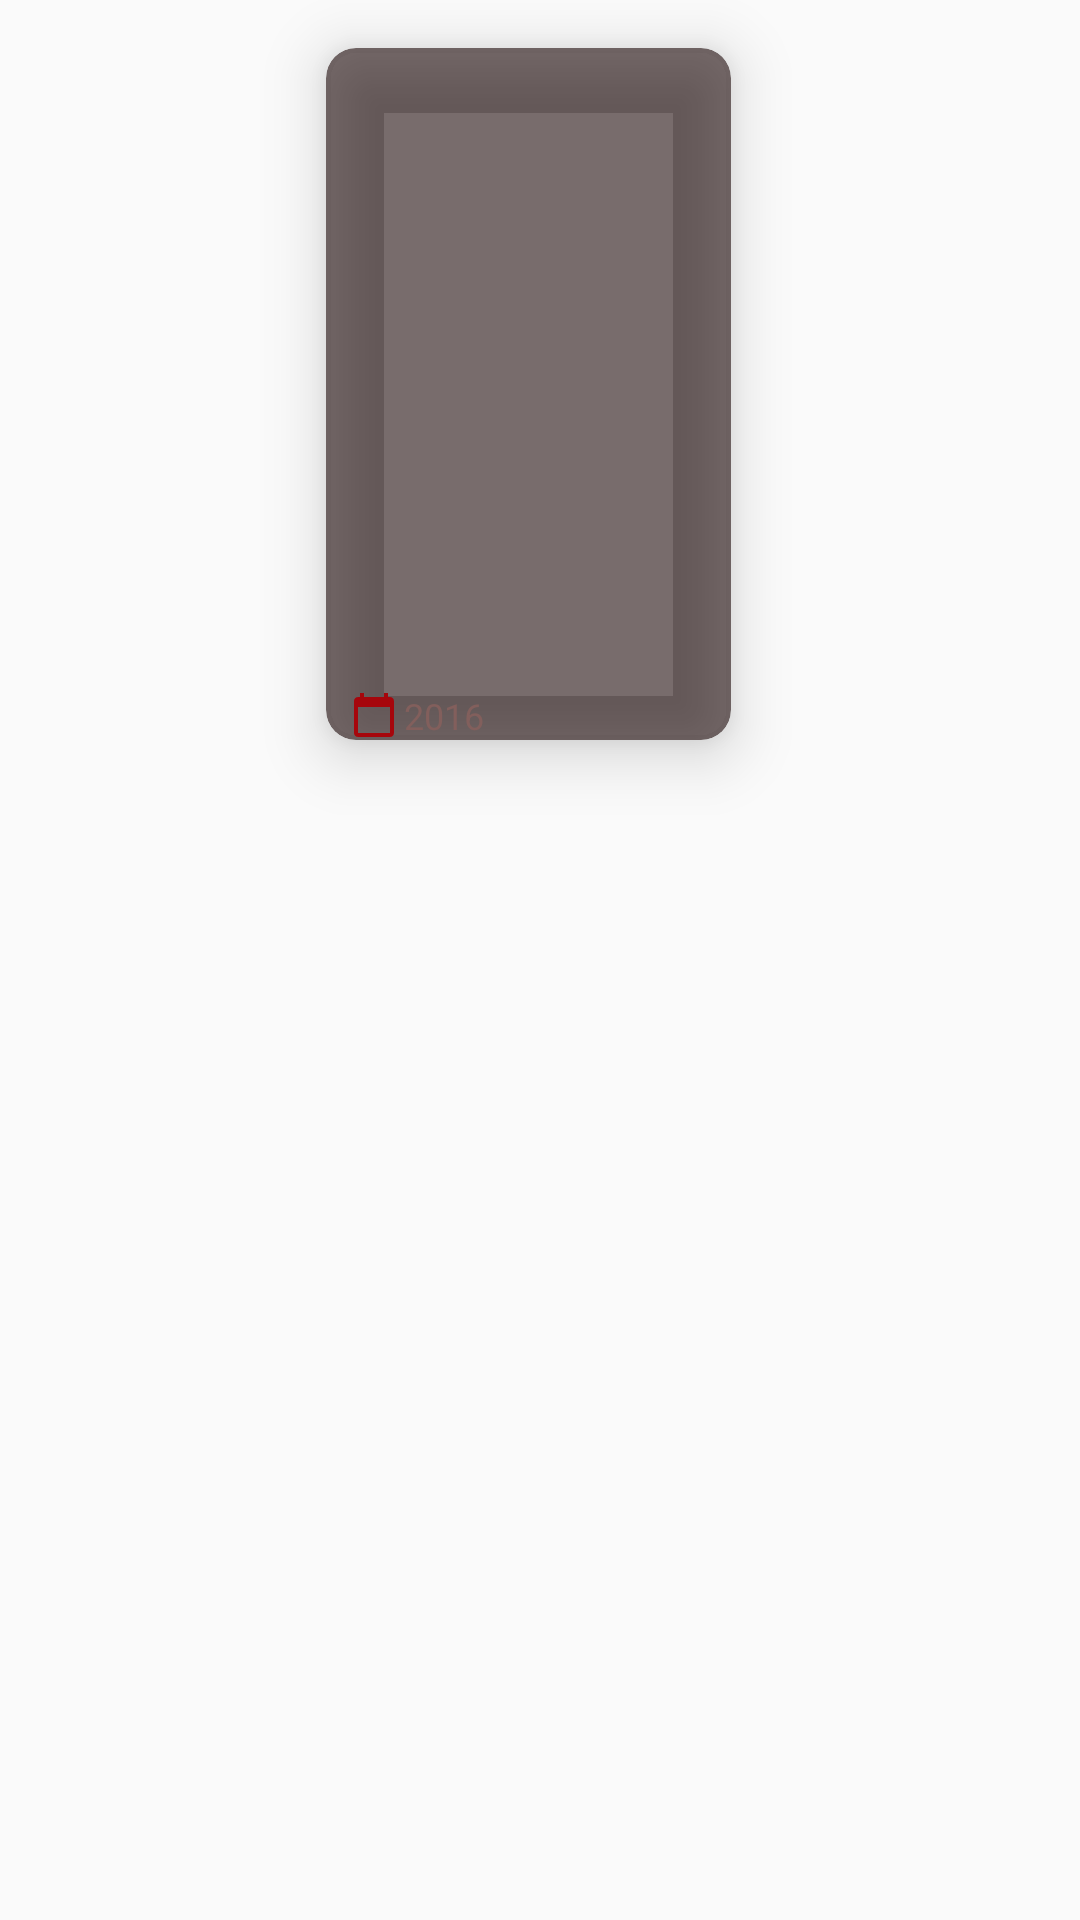

Icons on this 1080*1920 Android screen, each with its box as [x1=x1, y1=y1, x2=x2, y2=y2]:
calendar: [x1=354, y1=693, x2=394, y2=737]
